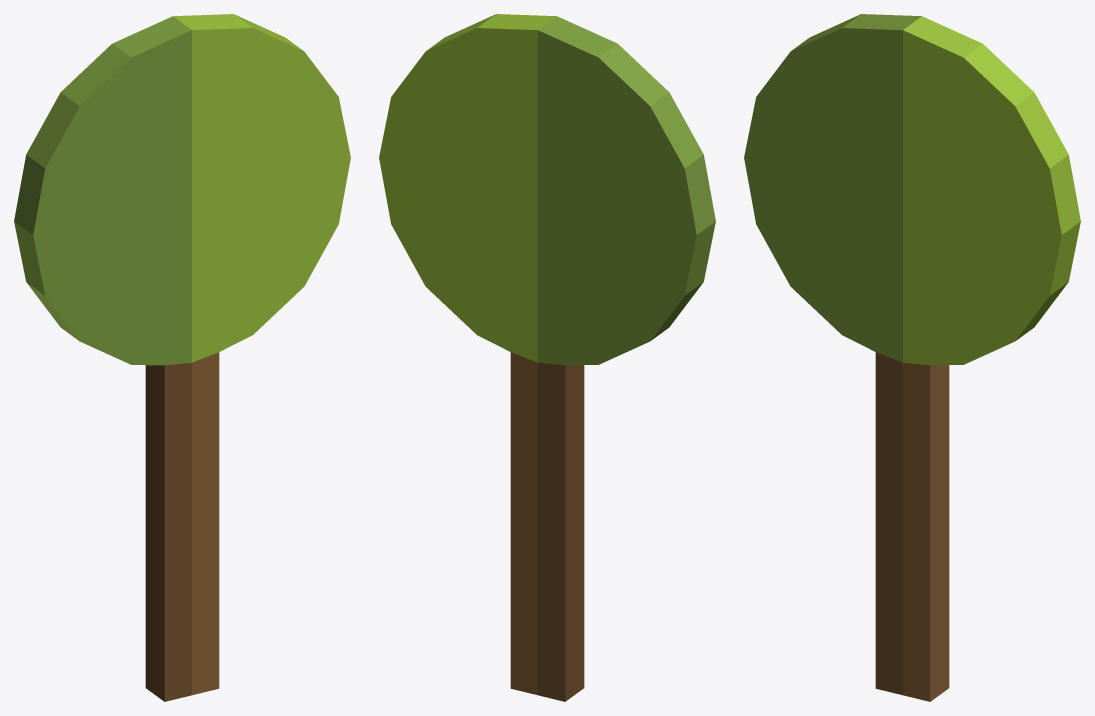
Rendered from ovaltree-big.fbx.
The picture shows the model from 3 angles, left to right: view 1: azimuth 30°, elevation 25°; view 2: azimuth 150°, elevation 25°; view 3: azimuth 330°, elevation 25°; orthographic projection.
Parts seen in each view (by area): view 1: Plane; view 2: Plane; view 3: Plane.
Boxes of the visible parts, left/top/right/bottom form: Plane: left=14, top=14, right=350, bottom=701; Plane: left=379, top=14, right=715, bottom=701; Plane: left=744, top=14, right=1080, bottom=701.
Bounding box in the file's own units: 24000 × 48000 × 2500.
